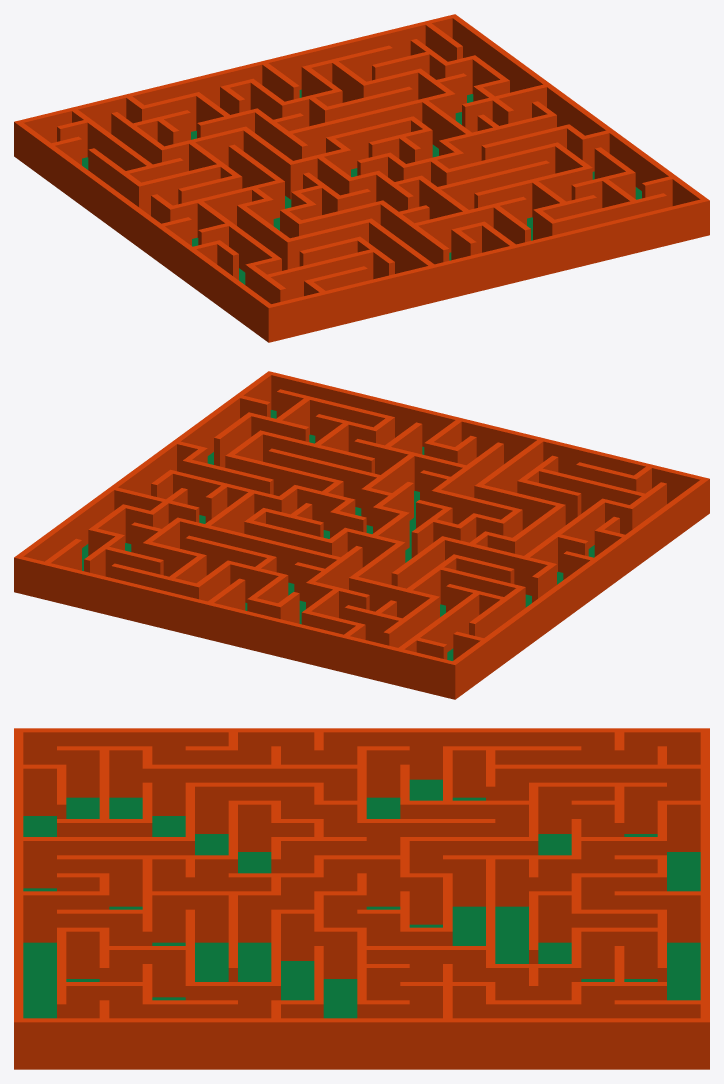
File: Level49Graund.FBX
3 renders of one model, top to bottom at view 1: azimuth 30°, elevation 25°; view 2: azimuth 150°, elevation 25°; view 3: azimuth 270°, elevation 25°, orthographic. The views are drawn at different scales.
Parts seen in each view (by area): view 1: Labyrinth003; view 2: Labyrinth003; view 3: Labyrinth003.
Part boxes in pixels (<box>): Labyrinth003: <box>14,14,709,342</box>; Labyrinth003: <box>14,371,709,699</box>; Labyrinth003: <box>14,728,709,1069</box>.
Size of the model in its own units: 373 by 28 by 373.
